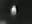person: (10, 5, 18, 17)
